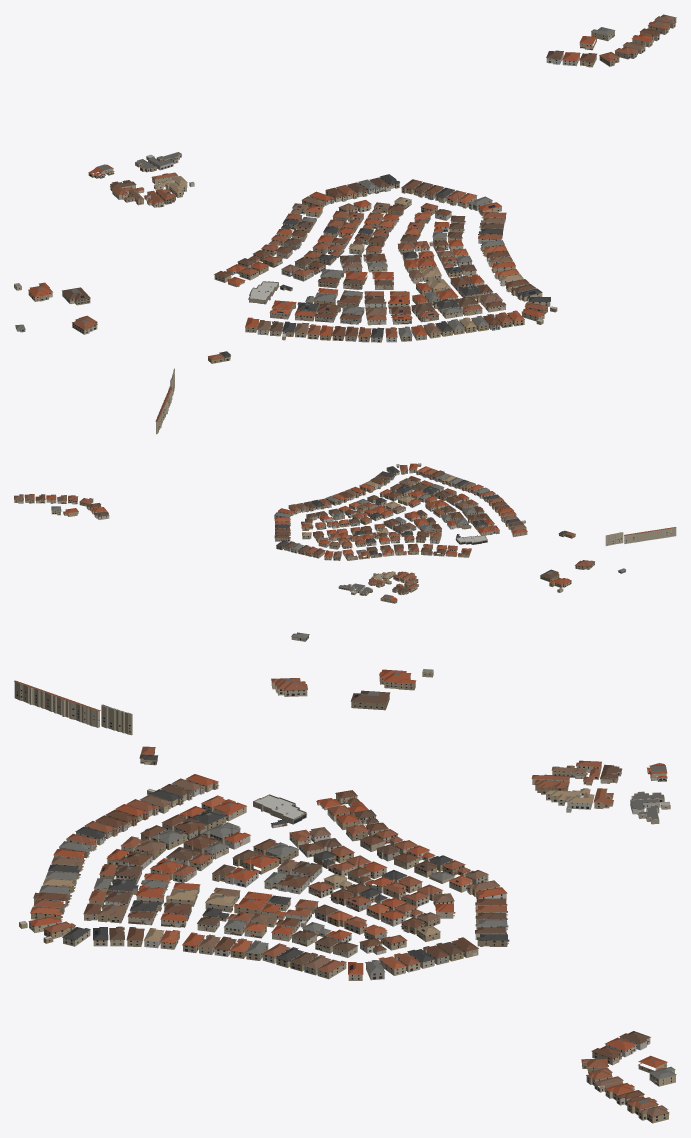
3 renders of one model, top to bottom at view 1: azimuth 30°, elevation 25°; view 2: azimuth 150°, elevation 25°; view 3: azimuth 270°, elevation 25°, orthographic. The views are drawn at different scales.
Visible parts, largest first — view 1: buildings_r5_c2_lod0; view 2: buildings_r5_c2_lod0; view 3: buildings_r5_c2_lod0.
Part boxes in pixels (box(x1,y1,x2,y2)): buildings_r5_c2_lod0: box(14, 14, 676, 434); buildings_r5_c2_lod0: box(14, 463, 676, 603); buildings_r5_c2_lod0: box(14, 632, 676, 1123).
Bounding box in the file's own units: 1036 × 69.14 × 570.
